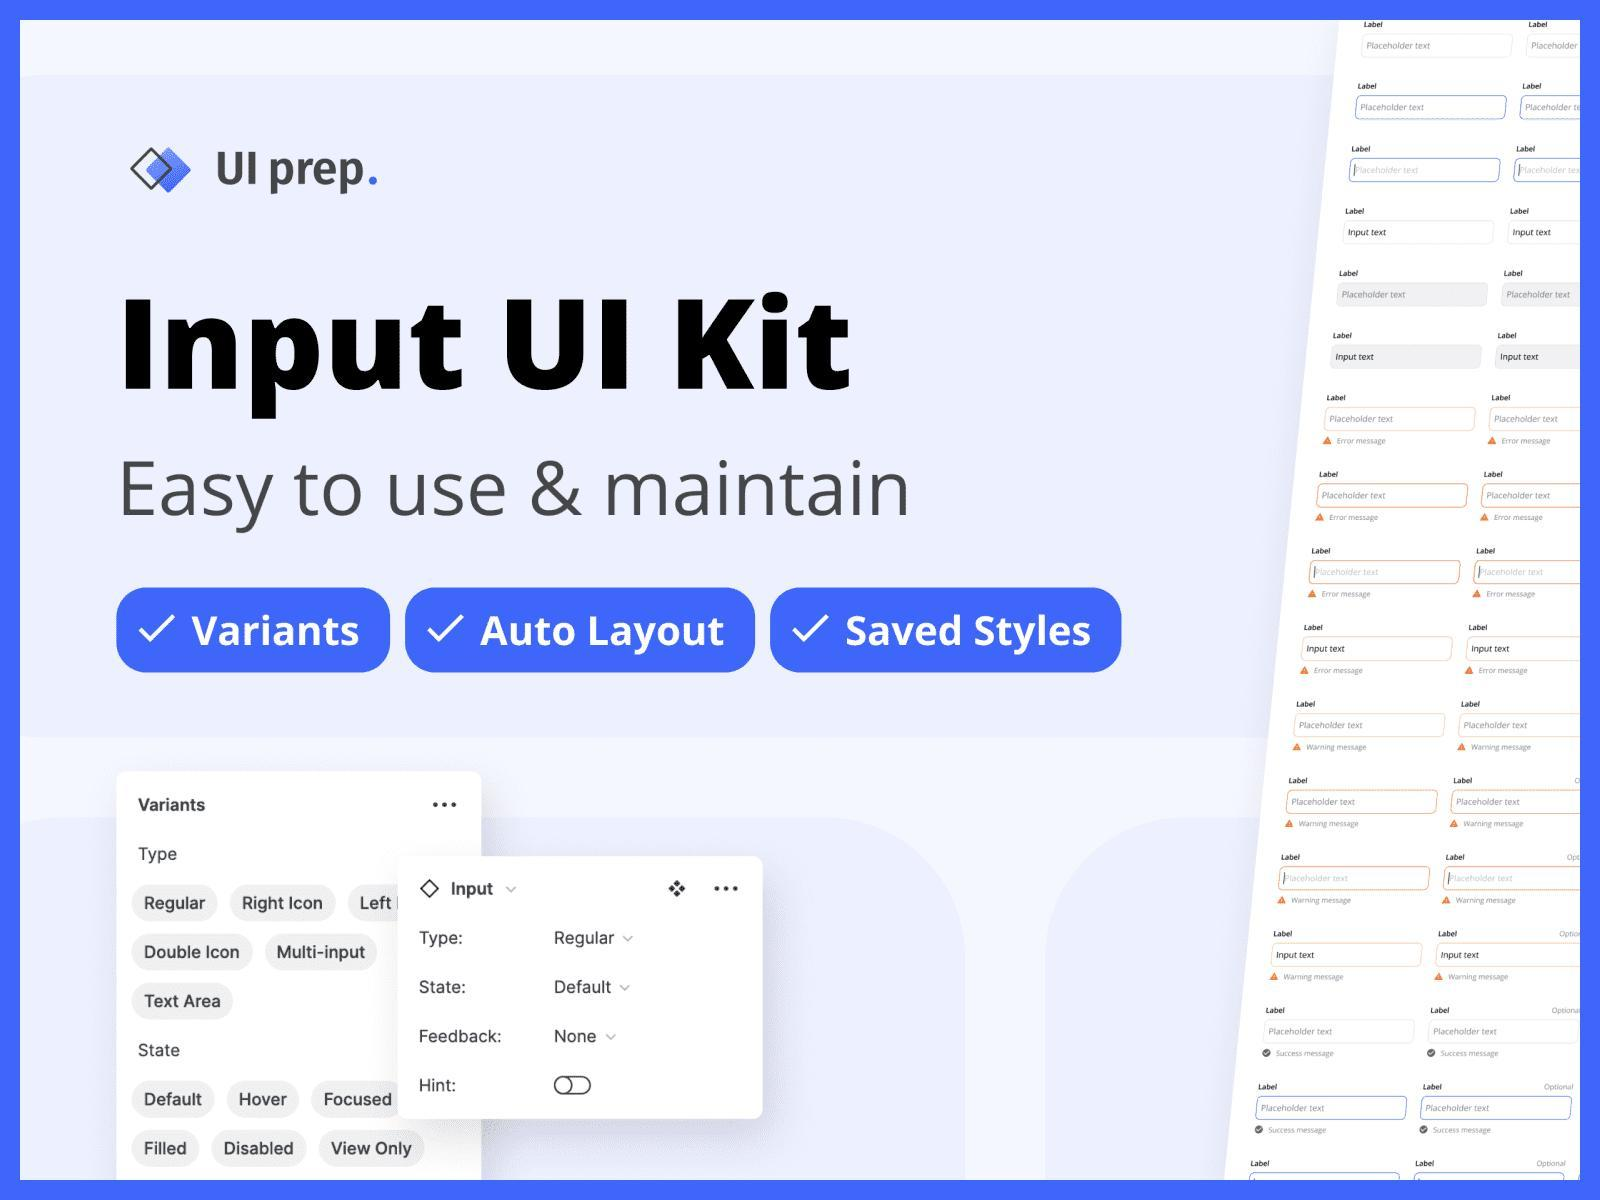button: (402, 587, 756, 676), (769, 587, 1125, 673), (110, 587, 396, 678), (131, 933, 254, 974), (266, 935, 380, 976), (232, 884, 339, 926), (321, 1132, 427, 1172), (209, 1126, 311, 1167), (127, 979, 236, 1017), (131, 1082, 217, 1119), (227, 1079, 301, 1122), (127, 1132, 204, 1170), (134, 887, 217, 921)
label: (416, 1026, 506, 1051), (414, 925, 470, 952), (416, 977, 474, 1000), (412, 1076, 467, 1099)
switch: (551, 1073, 602, 1098)
